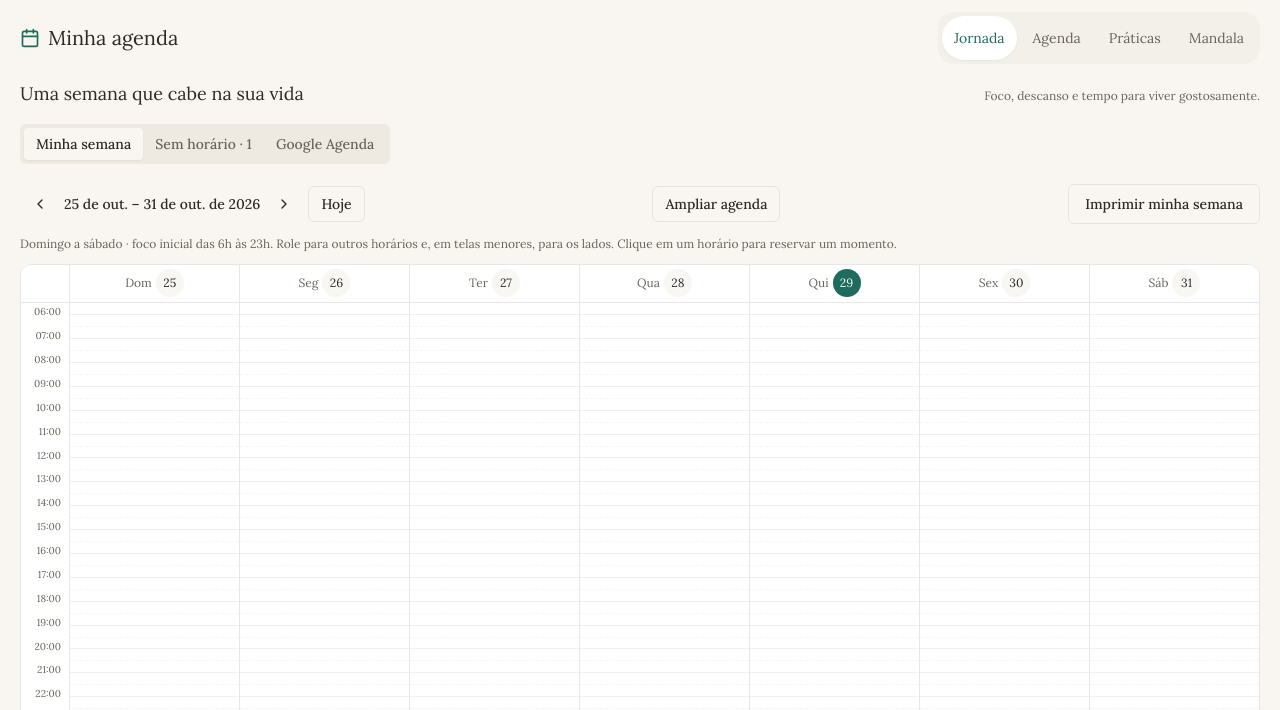
página real do Planner encontra a matrícula demo e mostra o passo sem consultar o servidor
(page scrolled)
Click the tab "Sem horário · 1" at (204, 144), box [143,128,264,160]
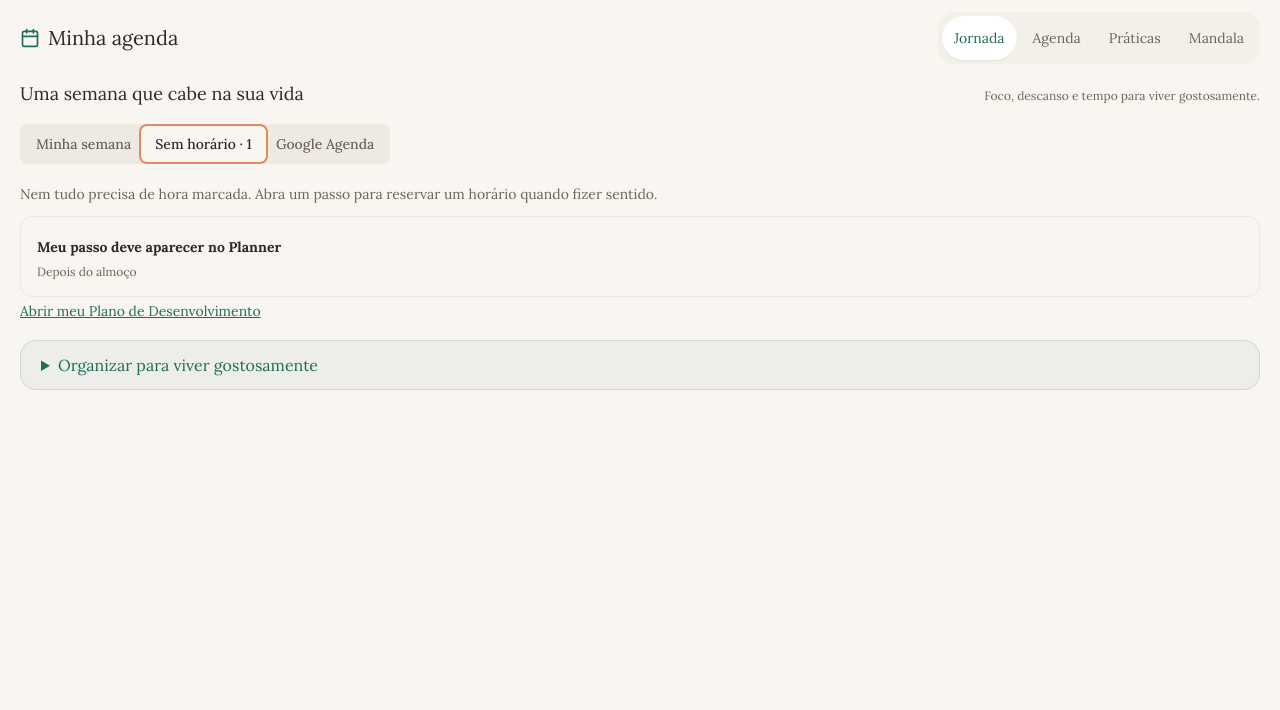
Click the button "Meu passo deve aparecer no Planner Depois do almoço" at (159, 247), box [20,216,1260,297]
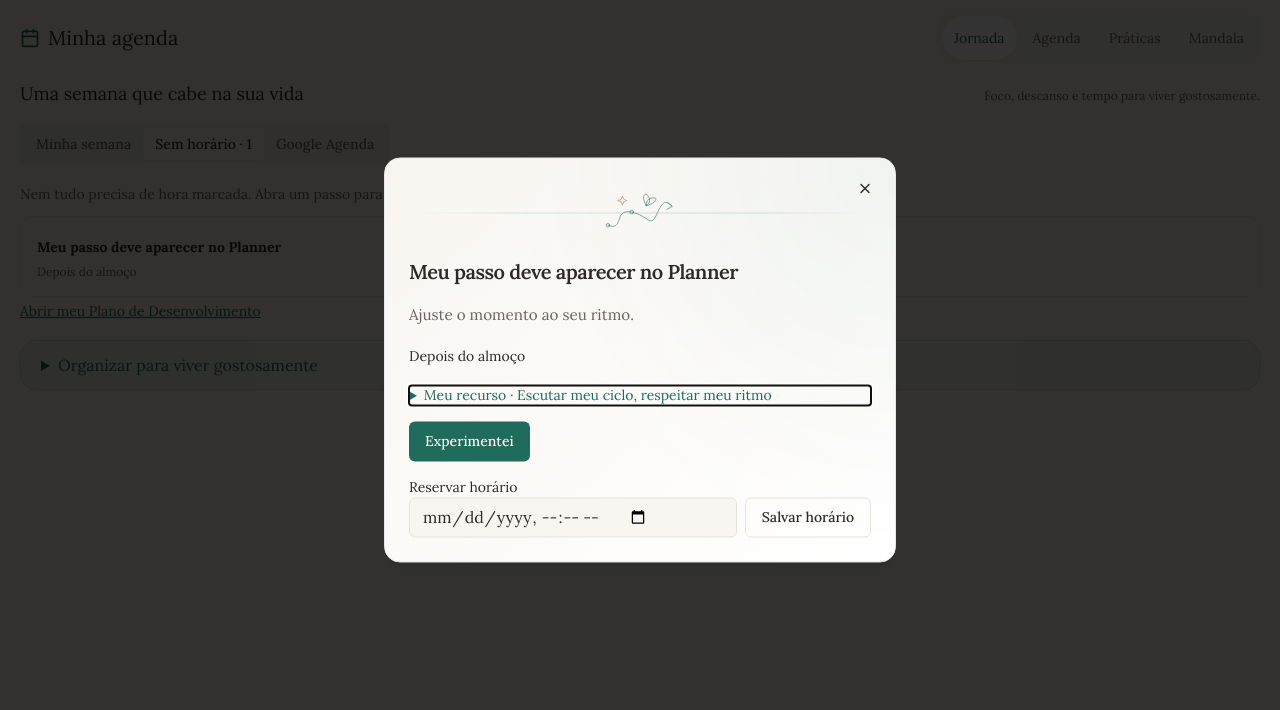
expect the button "Experimentei" is shown: met, box [409,422,530,462]
